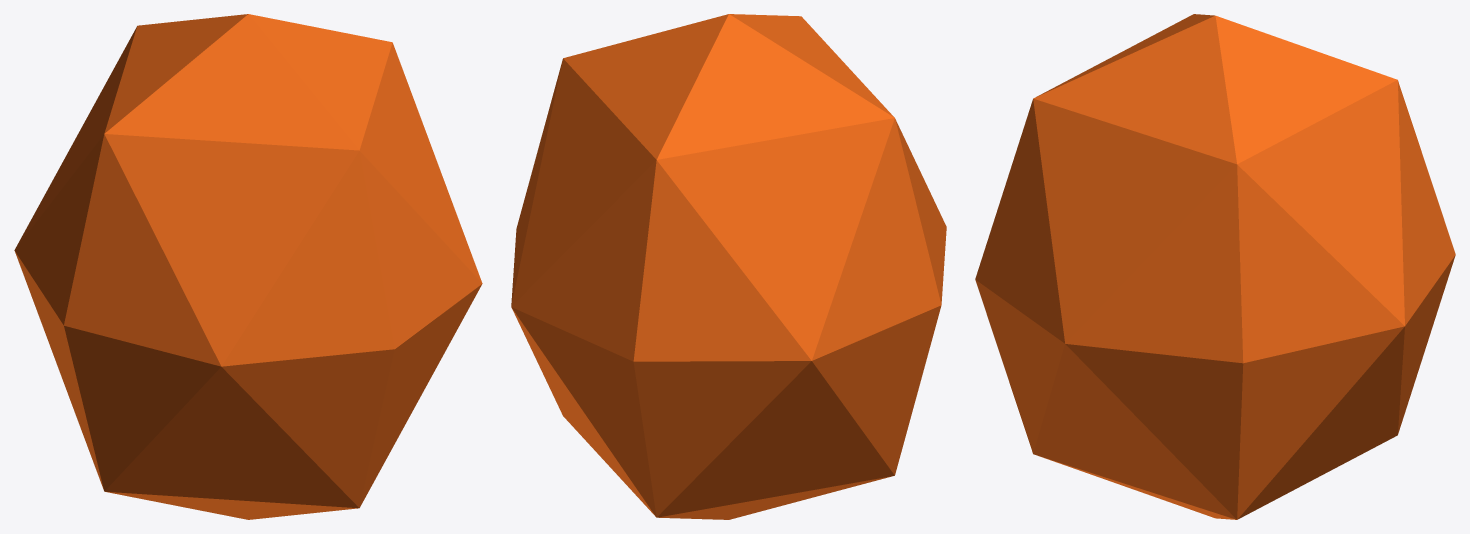
The model's file is Bacteria_tongue02.fbx.
The picture shows the model from 3 angles, left to right: view 1: azimuth 30°, elevation 25°; view 2: azimuth 150°, elevation 25°; view 3: azimuth 270°, elevation 25°; orthographic projection.
Visible parts, largest first — view 1: Bacteria_tongue02; view 2: Bacteria_tongue02; view 3: Bacteria_tongue02.
Boxes of the visible parts, x1,y1,x2,y2 form: Bacteria_tongue02: (14, 14, 482, 519); Bacteria_tongue02: (511, 14, 946, 519); Bacteria_tongue02: (975, 14, 1455, 519).
Bounding box in the file's own units: 1.17 × 1.43 × 1.24.
